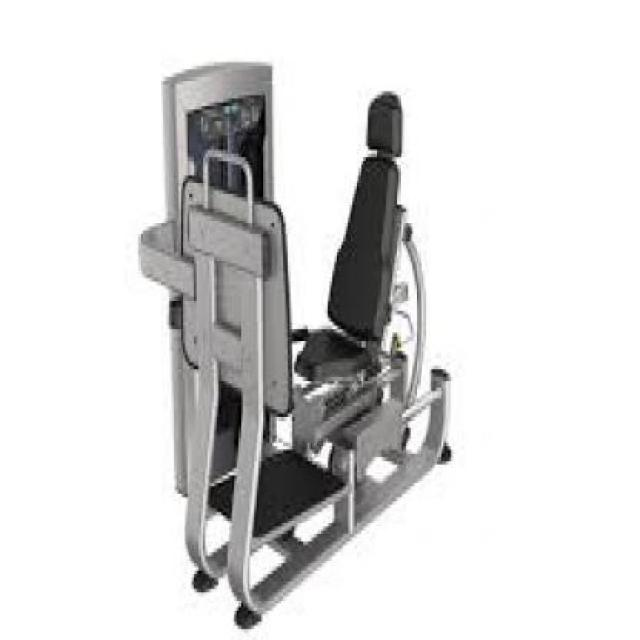leg press: (135, 46, 480, 637)
